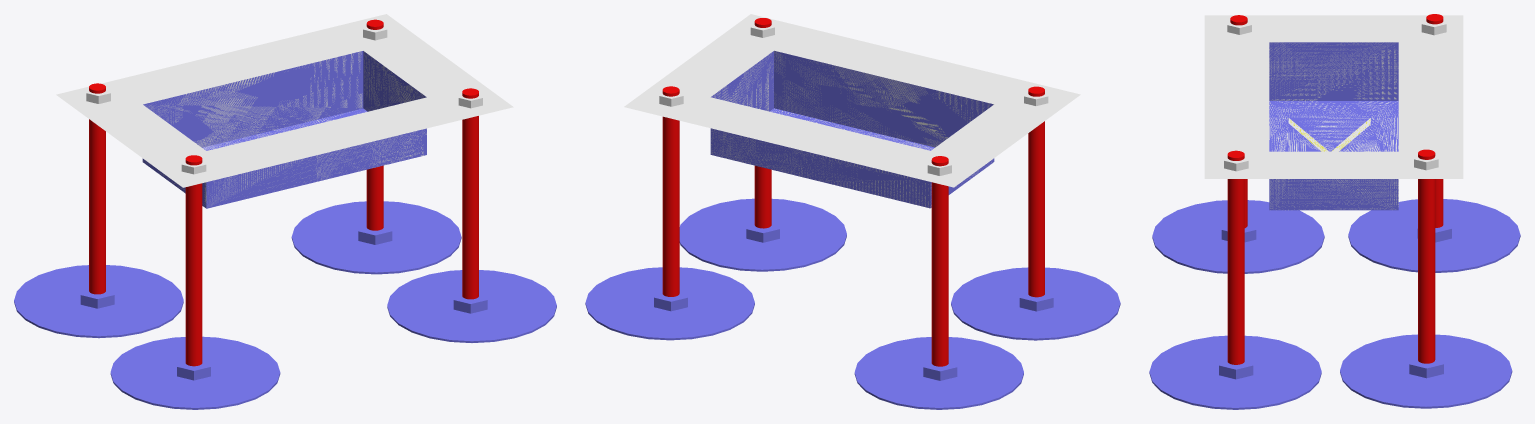
File: x_Bin.dae
3 views of the same model, side by side, from view 1: azimuth 30°, elevation 25°; view 2: azimuth 150°, elevation 25°; view 3: azimuth 270°, elevation 25° (orthographic).
Visible parts, largest first — view 1: SketchUp_004, SketchUp, group_1_002, group_0_002, group_3_002, group_2_002, group_2, group_0, group_3, group_1, group_1_001, group_0_001 (+2 smaller); view 2: SketchUp_004, SketchUp, group_2_002, group_3_002, group_1_002, group_0_002, group_3, group_1, group_2, group_0, group_3_001, group_2_001 (+2 smaller); view 3: SketchUp_004, SketchUp, group_0_002, group_1_002, group_2_002, group_3_002, group_0, group_1, group_0_001, group_1_001, group_3, SketchUp_006 (+2 smaller).
Part boxes in pixels (bbox=[...]): SketchUp_004: bbox=[56, 14, 513, 187]; SketchUp: bbox=[142, 51, 426, 208]; group_1_002: bbox=[291, 201, 461, 274]; group_0_002: bbox=[387, 270, 556, 342]; group_3_002: bbox=[14, 265, 183, 338]; group_2_002: bbox=[110, 336, 280, 409]; group_2: bbox=[185, 155, 202, 366]; group_0: bbox=[462, 88, 478, 299]; group_3: bbox=[89, 83, 105, 294]; group_1: bbox=[366, 19, 383, 230]; group_1_001: bbox=[358, 221, 392, 244]; group_0_001: bbox=[453, 289, 487, 313]; SketchUp_004: bbox=[624, 14, 1080, 187]; SketchUp: bbox=[710, 50, 994, 208]; group_2_002: bbox=[951, 267, 1120, 340]; group_3_002: bbox=[854, 337, 1023, 409]; group_1_002: bbox=[585, 267, 754, 340]; group_0_002: bbox=[679, 198, 846, 271]; group_3: bbox=[931, 156, 948, 366]; group_1: bbox=[662, 86, 679, 296]; group_2: bbox=[1028, 86, 1044, 297]; group_0: bbox=[754, 18, 771, 228]; group_3_001: bbox=[923, 357, 957, 380]; group_2_001: bbox=[1019, 287, 1053, 311]; SketchUp_004: bbox=[1204, 15, 1463, 178]; SketchUp: bbox=[1269, 42, 1398, 210]; group_0_002: bbox=[1149, 335, 1321, 409]; group_1_002: bbox=[1340, 334, 1512, 408]; group_2_002: bbox=[1152, 200, 1324, 273]; group_3_002: bbox=[1348, 199, 1520, 272]; group_0: bbox=[1227, 150, 1244, 364]; group_1: bbox=[1418, 149, 1435, 363]; group_0_001: bbox=[1219, 355, 1253, 379]; group_1_001: bbox=[1409, 354, 1443, 378]; group_3: bbox=[1426, 14, 1443, 227]; SketchUp_006: bbox=[1288, 118, 1370, 151].
Size of the model in its own units: 1.15 by 0.8615 by 0.5632.
